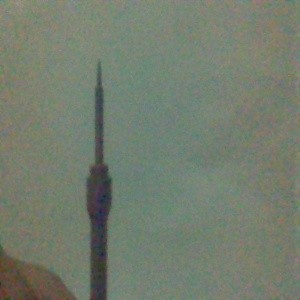solder: (85, 59, 112, 300)
